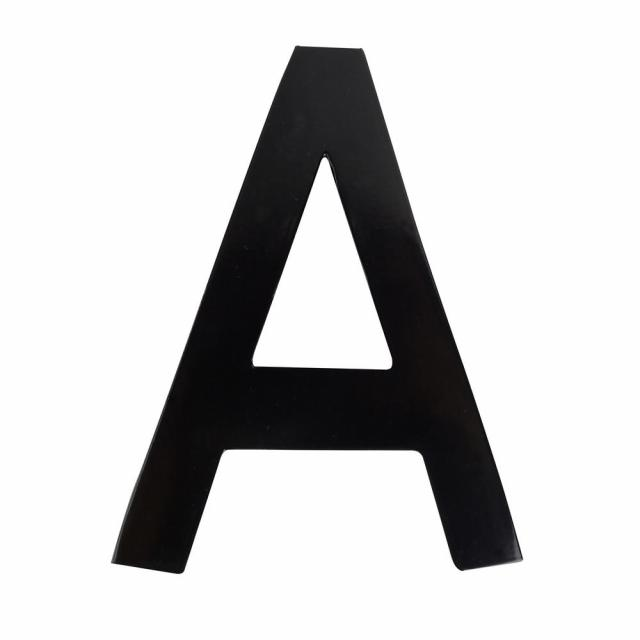A: (39, 29, 556, 589)
